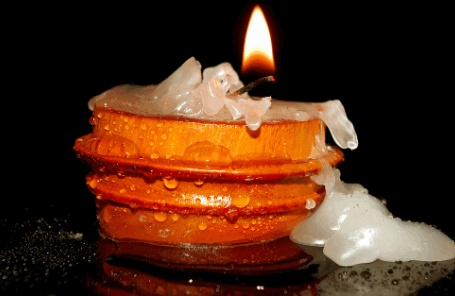fire: (242, 5, 275, 70)
